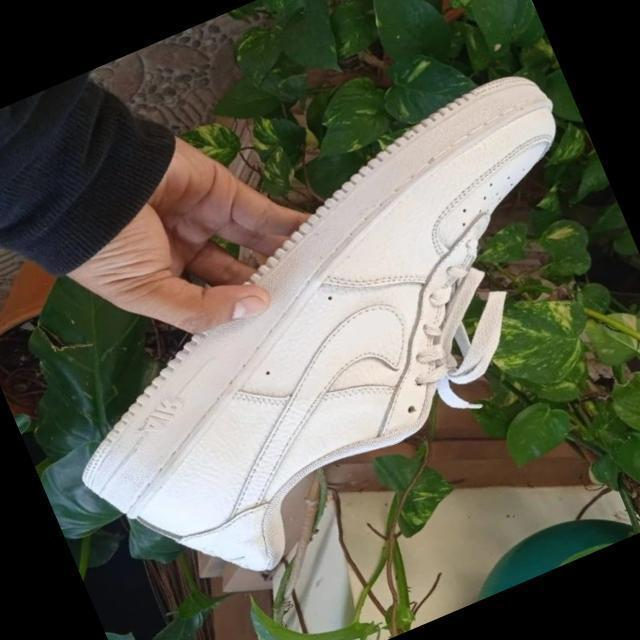nike original air force: (0, 58, 640, 627)
